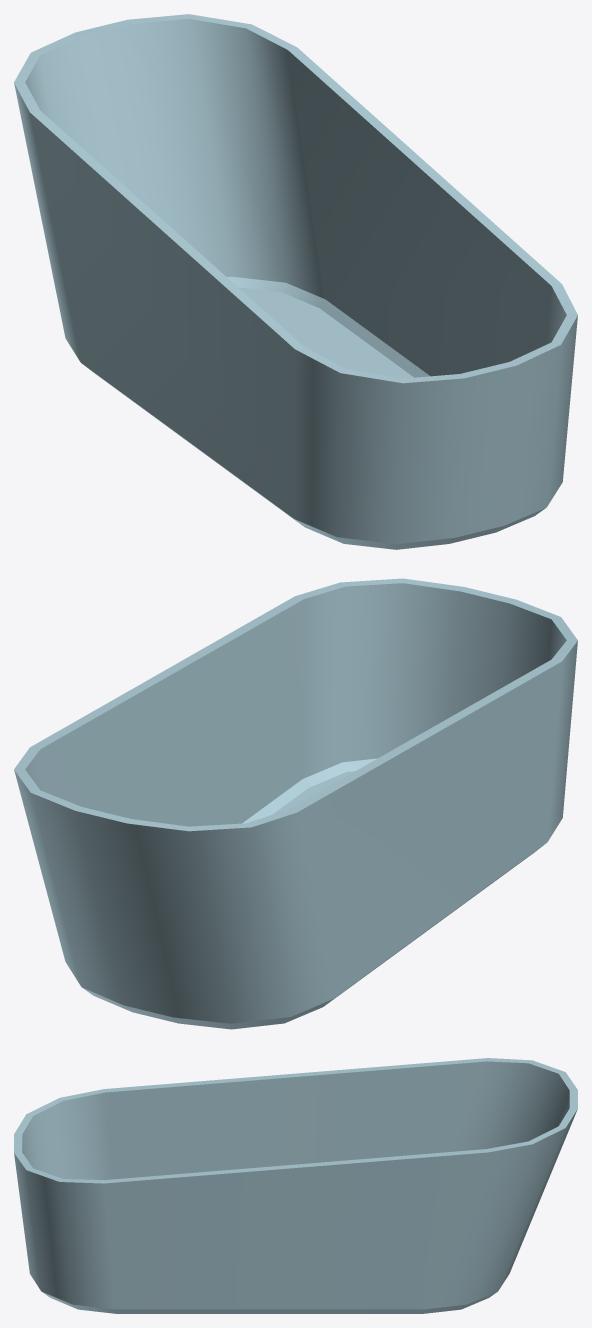
Rendered from Bathroom2_bathroom.fbx.
The picture shows the model from 3 angles, top to bottom: view 1: azimuth 30°, elevation 25°; view 2: azimuth 150°, elevation 25°; view 3: azimuth 270°, elevation 25°; orthographic projection. The views are drawn at different scales.
Parts seen in each view (by area): view 1: Bathroom2_bathroom; view 2: Bathroom2_bathroom; view 3: Bathroom2_bathroom.
Boxes of the visible parts, x1,y1,x2,y2 form: Bathroom2_bathroom: [14, 14, 577, 549]; Bathroom2_bathroom: [14, 578, 577, 1029]; Bathroom2_bathroom: [14, 1058, 577, 1313].
Bounding box in the file's own units: 133 × 114 × 335.
